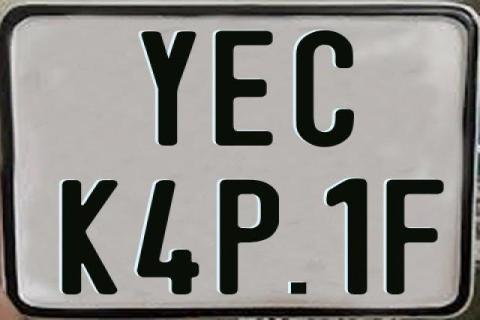0: (134, 180, 199, 298), (326, 176, 369, 293)
C: (296, 28, 358, 150)
E: (212, 29, 272, 145)
F: (386, 180, 445, 298)
K: (59, 179, 116, 295)
P: (219, 178, 284, 298)
Y: (140, 32, 198, 146)
